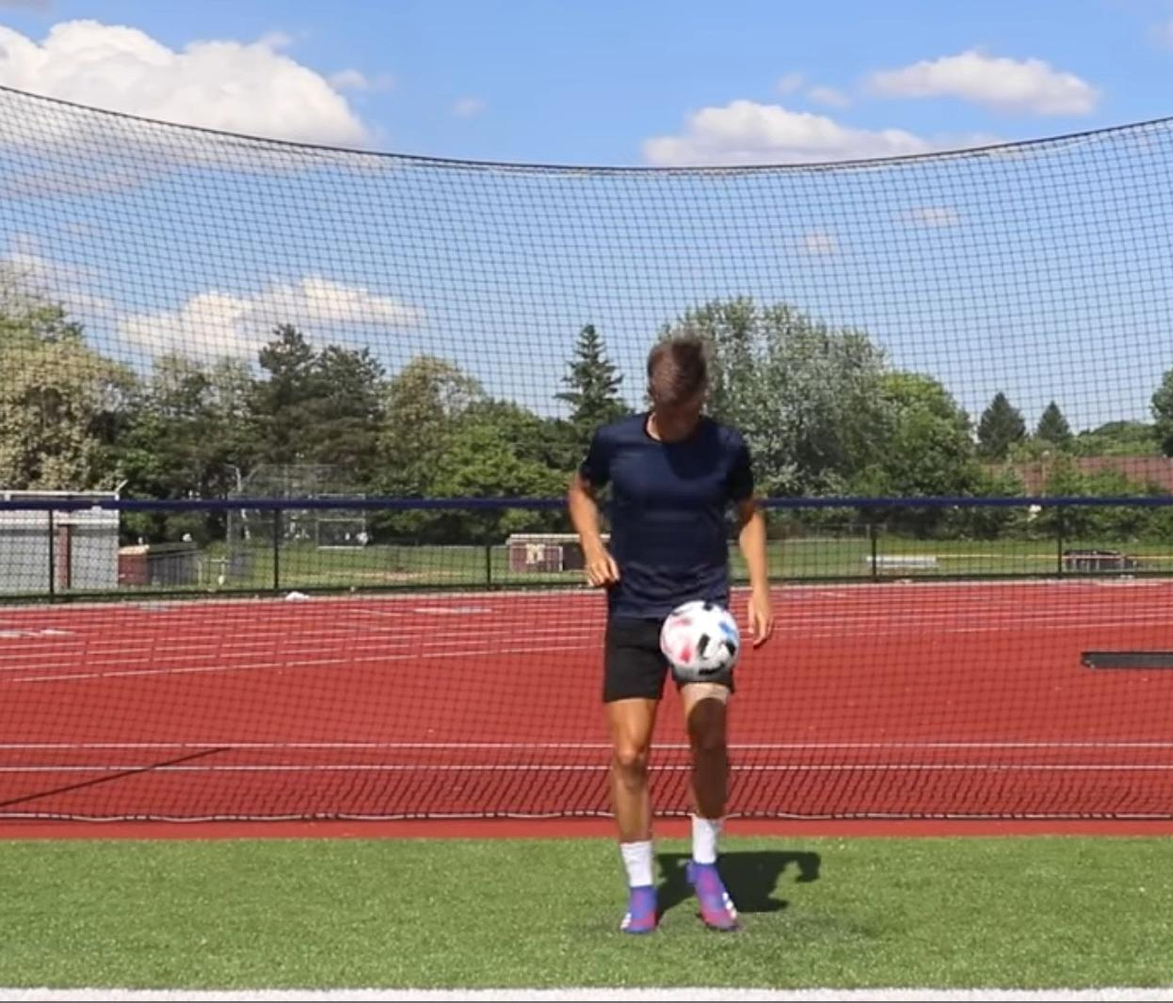ball: (660, 598, 741, 678)
foot: (685, 858, 739, 930), (617, 881, 662, 935)
person: (570, 339, 775, 934)
